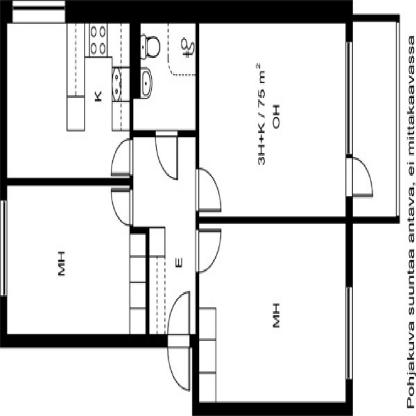door: (167, 291, 191, 394), (156, 130, 180, 184), (194, 168, 222, 213), (346, 156, 374, 199), (196, 230, 222, 272), (110, 187, 134, 225), (111, 136, 133, 176)
window: (13, 1, 64, 20), (346, 39, 354, 155), (1, 200, 7, 295), (346, 287, 352, 380)
zone: (198, 24, 346, 219), (199, 222, 346, 402), (7, 187, 147, 335), (7, 24, 130, 176), (132, 137, 196, 334), (352, 22, 396, 216), (133, 21, 195, 130)
